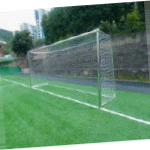goals: (26, 24, 117, 110)
